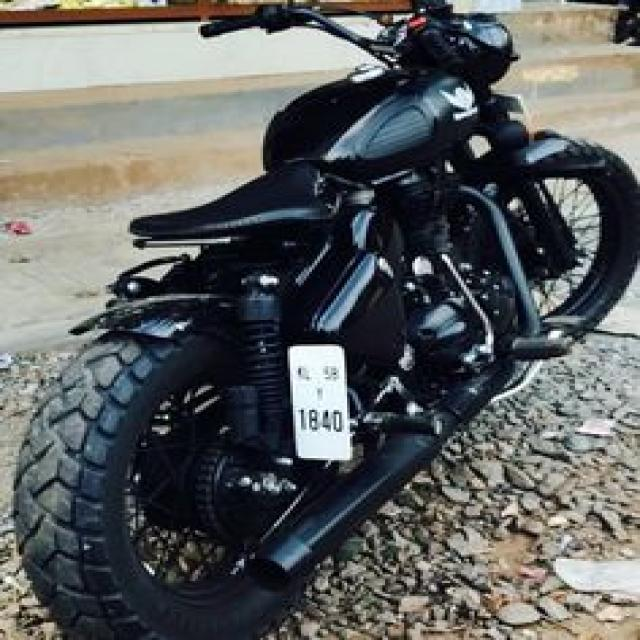number plate: (282, 340, 355, 462)
